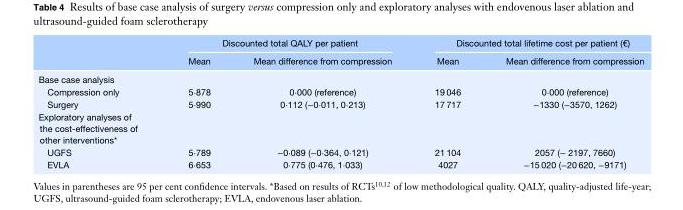table: (37, 36, 643, 170)
table column: (231, 36, 412, 170), (482, 36, 643, 170), (37, 36, 162, 170), (412, 36, 482, 170), (162, 36, 231, 170)
table column header: (37, 36, 643, 69)
table projected row header: (37, 110, 643, 145), (37, 69, 643, 85)
table row: (37, 110, 643, 145), (37, 51, 643, 69), (37, 69, 643, 85), (37, 36, 643, 51), (37, 97, 643, 110), (37, 145, 643, 158), (37, 85, 643, 97), (37, 158, 643, 170)
table spanning cell: (162, 36, 412, 51), (412, 36, 643, 51)
